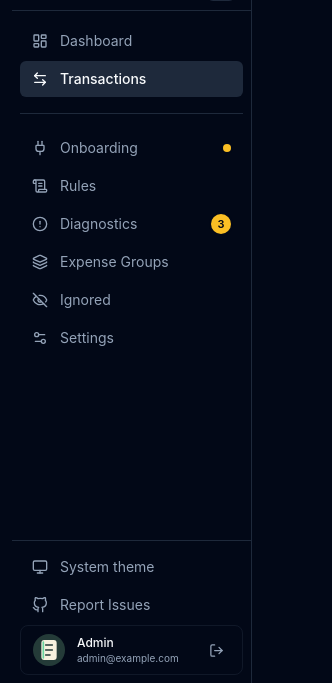
Scenario: Sidebar › links the profile block to account settings and renders the selected avatar
Click the link named "Admin admin@example.com". click: (132, 650)
box: [21, 626, 242, 674]
(page scrolled)
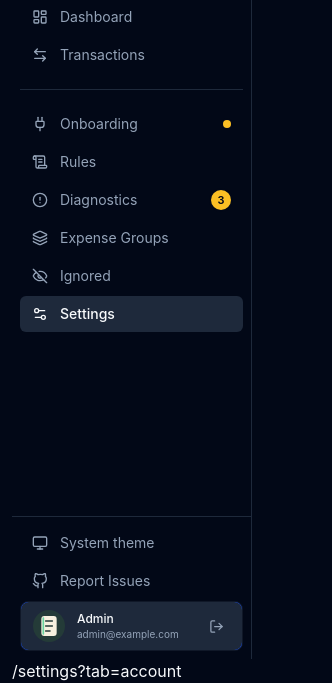
Expected: the text with test id "location" reads "/settings?tab=account", [12, 661, 182, 681]
